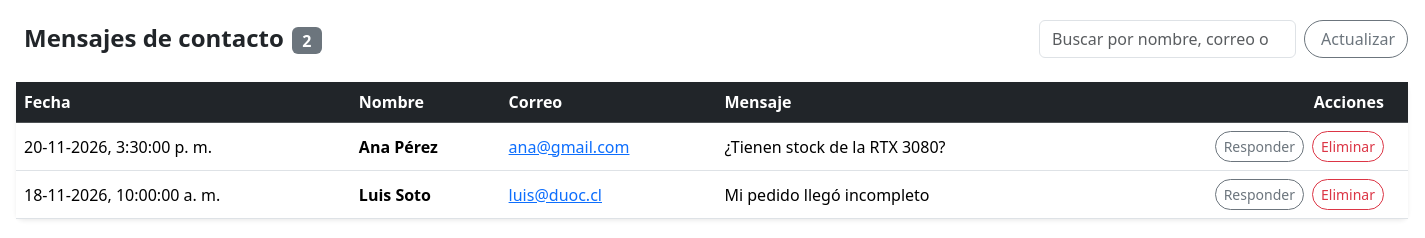
Test: AdminContactos › el buscador filtra por nombre, correo o mensaje
The image size is (1425, 238).
Expected: the text "Ana Pérez" is shown, [351, 122, 501, 170]
Type "incompleto" into the search field named "Buscar mensajes" at (1168, 39), box [1039, 20, 1296, 58]
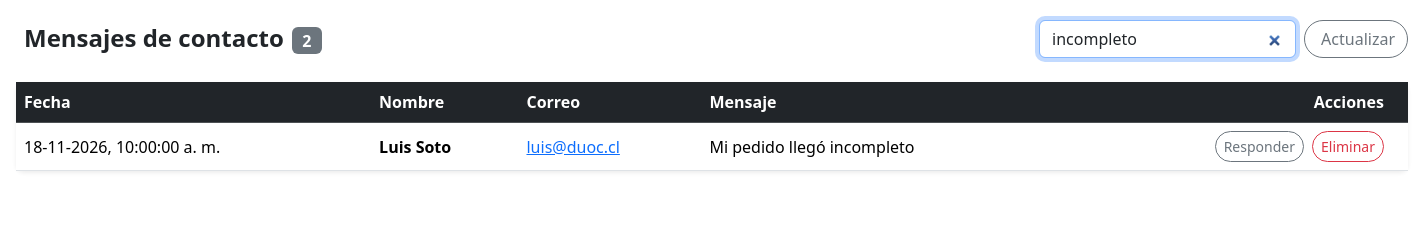
Expected: the text "Luis Soto" is shown, [371, 122, 518, 170]
Result: the text "Ana Pérez" is gone
Replace the text in the search field named "Buscar mensajes" with "zzz" at (1168, 39), box [1039, 20, 1296, 58]
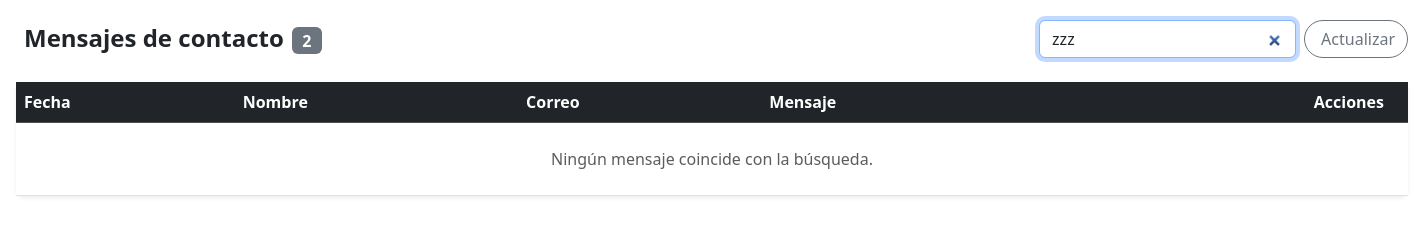
Result: the text "Ningún mensaje coincide con la búsqueda." is shown at [16, 122, 1408, 196]
